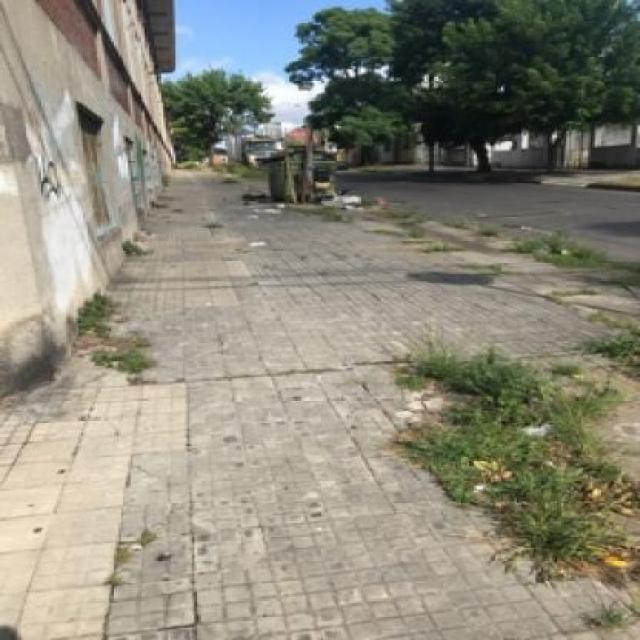garbage: (308, 185, 362, 206), (237, 231, 280, 254), (251, 197, 294, 213)
